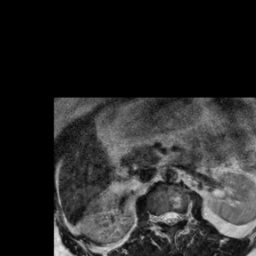CCS_normal: (166, 207, 173, 229)
LFS_normal: (179, 208, 184, 225)
LLS_normal: (173, 207, 178, 226)
RFS_normal: (154, 209, 162, 224)
RLS_normal: (162, 207, 167, 227)
